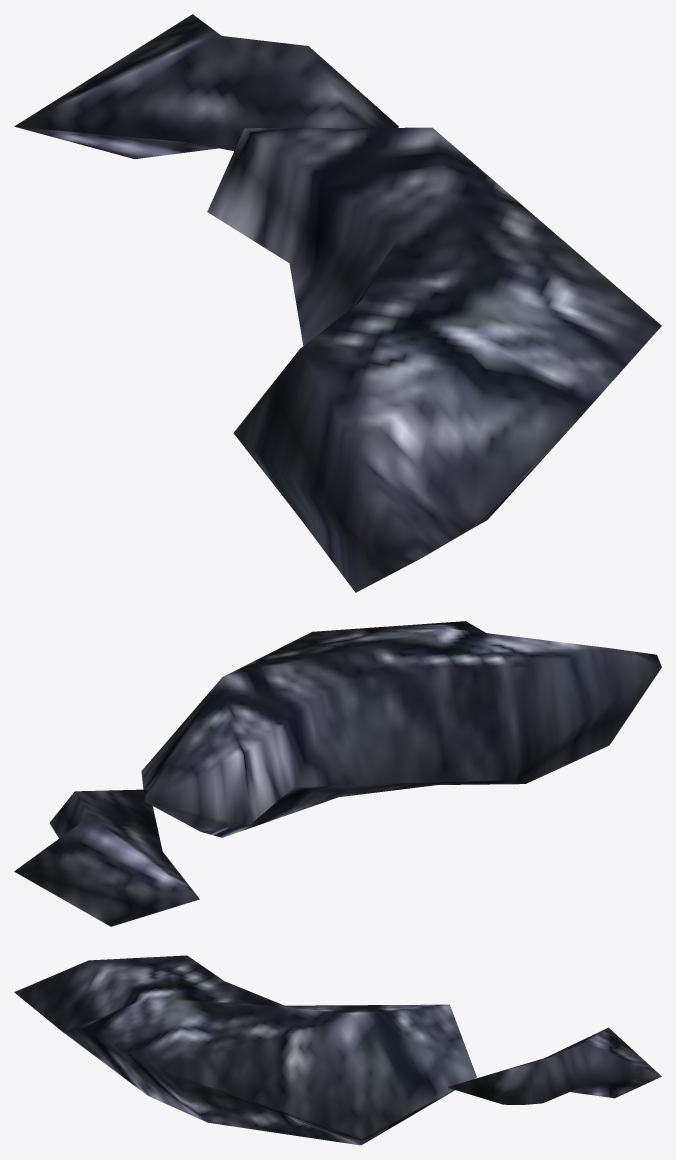
Rendered from nar_condra_7_cone_4.glb.
The picture shows the model from 3 angles, top to bottom: view 1: azimuth 30°, elevation 25°; view 2: azimuth 150°, elevation 25°; view 3: azimuth 270°, elevation 25°; orthographic projection. The views are drawn at different scales.
Parts seen in each view (by area): view 1: model_nar_condra_7_cone_4; view 2: model_nar_condra_7_cone_4; view 3: model_nar_condra_7_cone_4.
Part boxes in pixels (bbox=[...]): model_nar_condra_7_cone_4: bbox=[14, 14, 661, 592]; model_nar_condra_7_cone_4: bbox=[14, 621, 661, 926]; model_nar_condra_7_cone_4: bbox=[14, 955, 661, 1145].
Size of the model in its own units: 0.2881 by 0.1392 by 0.6259.
1 material, 1 textured.
